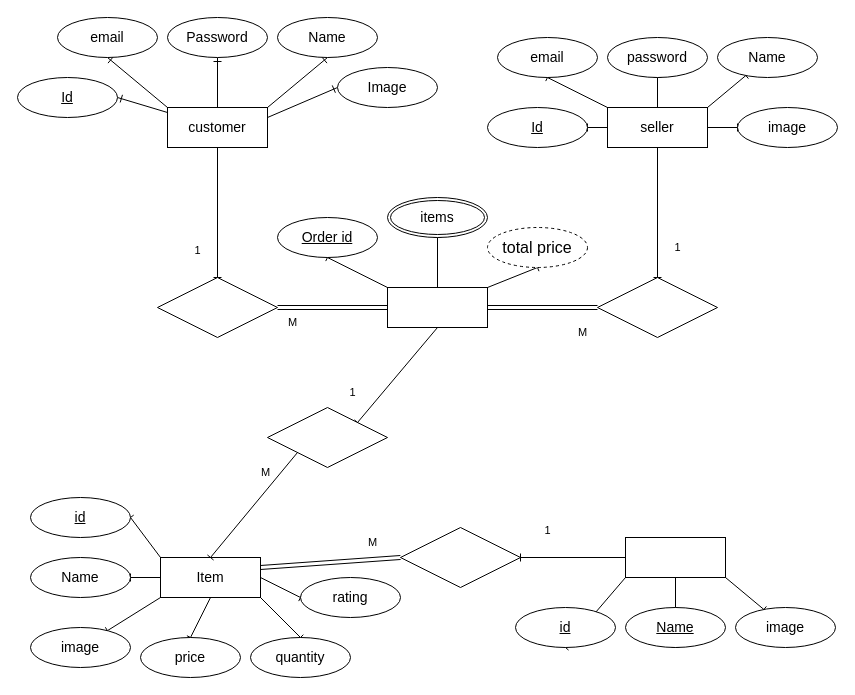
Image size: 855x695. Some labels were removed from this diagram. The centre of each missing label's shape, as x and y in pixels:
"Buy" goes at (x=217, y=307).
"category" goes at (x=675, y=557).
"contain" goes at (x=327, y=437).
"Exist in" goes at (x=460, y=557).
"Order" goes at (x=437, y=307).
"sell" goes at (x=657, y=307).
